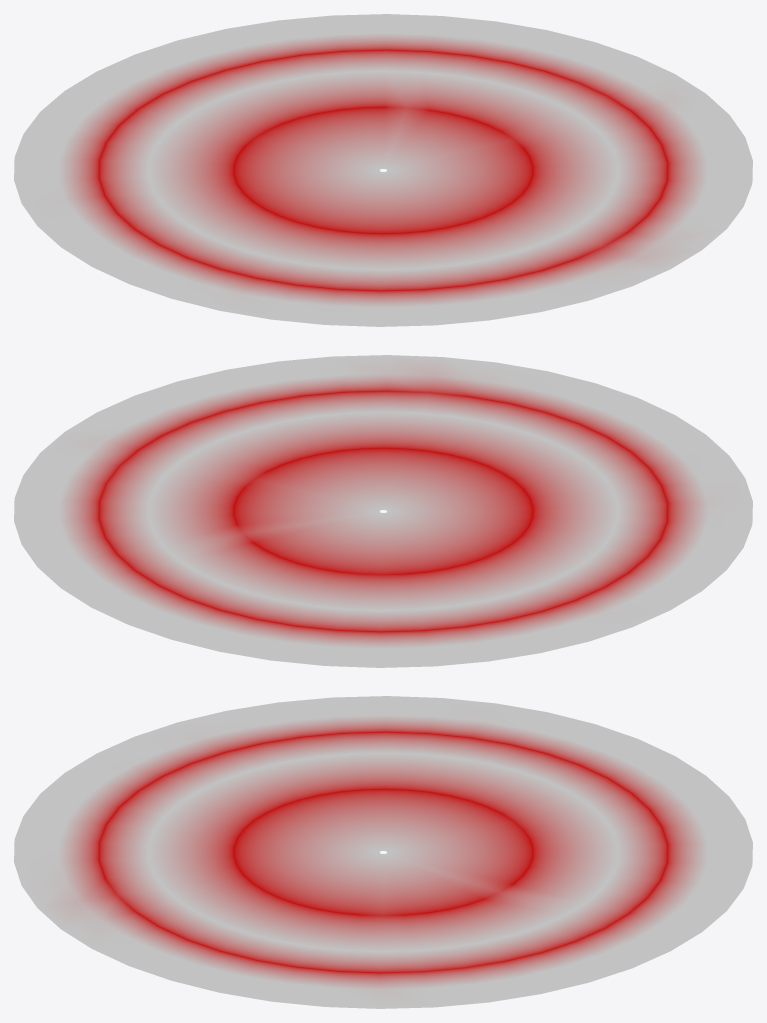
The model's file is SM_UmaAimUltimateUVDisk.fbx.
3 renders of one model, top to bottom at view 1: azimuth 30°, elevation 25°; view 2: azimuth 150°, elevation 25°; view 3: azimuth 270°, elevation 25°, orthographic.
Parts seen in each view (by area): view 1: UmaAimUltimateUVDisk; view 2: UmaAimUltimateUVDisk; view 3: UmaAimUltimateUVDisk.
Boxes of the visible parts, left/top/right/bottom form: UmaAimUltimateUVDisk: left=14, top=14, right=752, bottom=326; UmaAimUltimateUVDisk: left=14, top=355, right=752, bottom=667; UmaAimUltimateUVDisk: left=14, top=696, right=752, bottom=1008.
Bounding box in the file's own units: 3.98 × 4.28e-07 × 3.97.
